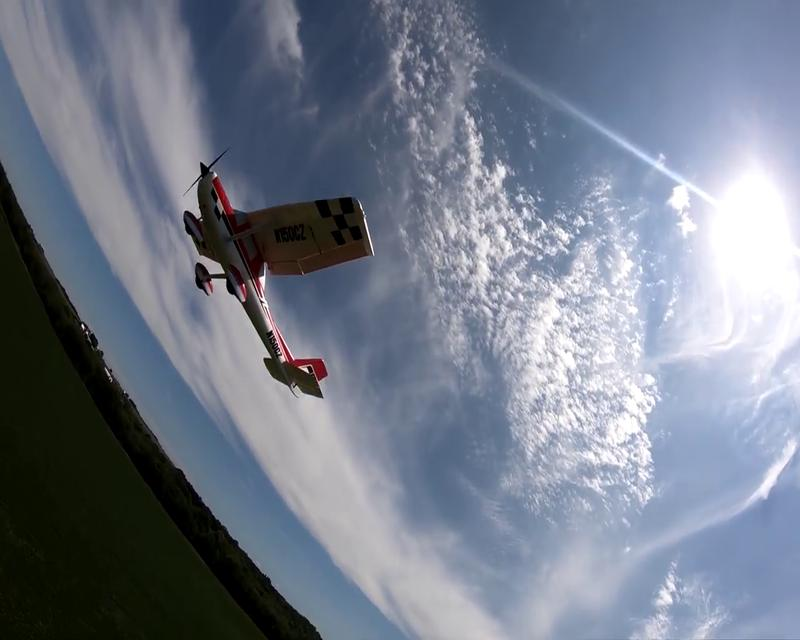UAV: (179, 147, 375, 399)
